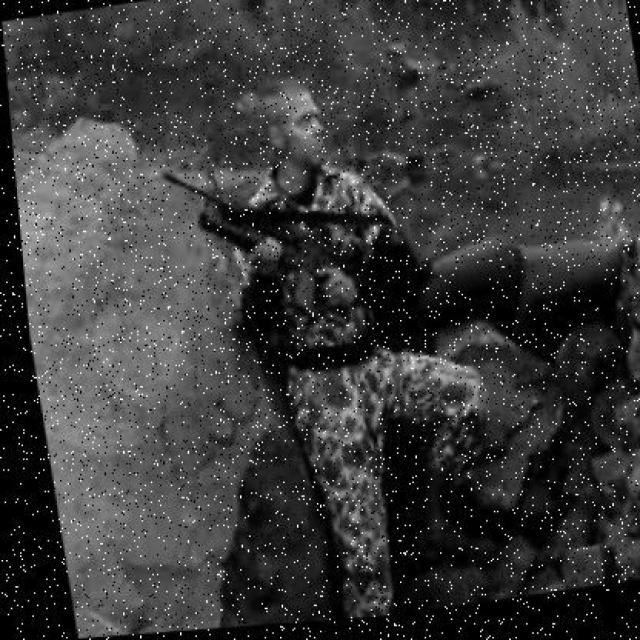weapon: (162, 172, 356, 283)
